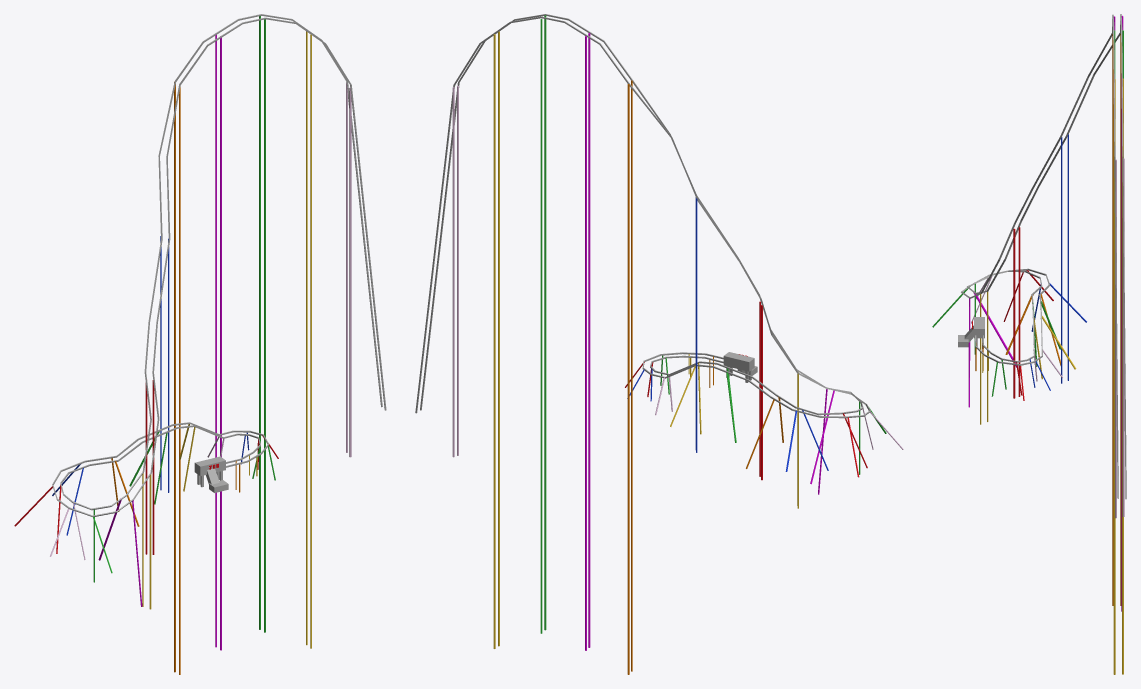
File: RollerCoaster.glb
3 renders of one model, left to right at view 1: azimuth 30°, elevation 25°; view 2: azimuth 150°, elevation 25°; view 3: azimuth 270°, elevation 25°, orthographic. The views are drawn at different scales.
Visible parts, largest first — view 1: Cube.014, Cube.015, Cylinder.004, Cylinder.003, Cylinder.126, Cylinder.127, Cylinder.125, Cylinder.124, Cylinder.001, Cylinder.002, Cylinder.129, Cylinder.128; view 2: Cube.015, Cube.014, Cylinder.127, Cylinder.003, Cylinder.126, Cylinder.001, Cylinder.124, Cylinder.004, Cylinder.002, Cylinder.125, Cylinder.128, Cylinder.129; view 3: Cube.014, Cube.015, Cylinder.004, Cylinder.125, Cylinder.124, Cylinder.128, Cylinder.003, Cylinder.129, Cylinder.002, Cylinder.121, Cylinder.123, Cylinder.122 (+1 smaller).
Boxes of the visible parts, x1,y1,x2,y2 form: Cube.014: (52,17,386,516); Cube.015: (60,14,382,510); Cylinder.004: (310,34,311,648); Cylinder.003: (306,31,307,645); Cylinder.126: (264,19,265,632); Cylinder.127: (259,16,260,629); Cylinder.125: (179,87,180,674); Cylinder.124: (174,82,175,672); Cylinder.001: (220,36,221,650); Cylinder.002: (215,35,216,647); Cylinder.129: (349,87,351,457); Cylinder.128: (346,83,347,452); Cube.015: (415,16,863,415); Cube.014: (420,14,870,418); Cylinder.127: (540,19,542,633); Cylinder.003: (493,34,495,648); Cylinder.126: (544,15,546,630); Cylinder.001: (588,33,590,647); Cylinder.124: (627,84,629,674); Cylinder.004: (498,31,499,646); Cylinder.002: (585,36,586,650); Cylinder.125: (631,80,632,671); Cylinder.128: (452,87,454,457); Cylinder.129: (457,85,458,455); Cube.014: (961,14,1118,498); Cube.015: (967,14,1126,499); Cylinder.004: (1113,79,1115,674); Cylinder.125: (1112,34,1113,605); Cylinder.124: (1120,34,1121,605); Cylinder.128: (1122,158,1124,516); Cylinder.003: (1122,78,1123,674); Cylinder.129: (1115,159,1116,518); Cylinder.002: (1121,15,1123,611); Cylinder.121: (1013,228,1015,398); Cylinder.123: (1067,134,1068,380); Cylinder.122: (1061,137,1062,383).
Bounding box in the file's own units: 898 × 1346 × 380.
